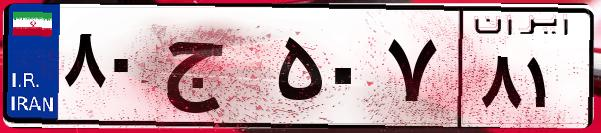0: (330, 28, 385, 110), (110, 28, 158, 98)
1: (525, 38, 570, 115)
5: (270, 28, 330, 110)
7: (385, 28, 445, 110)
8: (57, 26, 110, 100), (475, 38, 525, 113)
ج: (158, 20, 270, 120)
